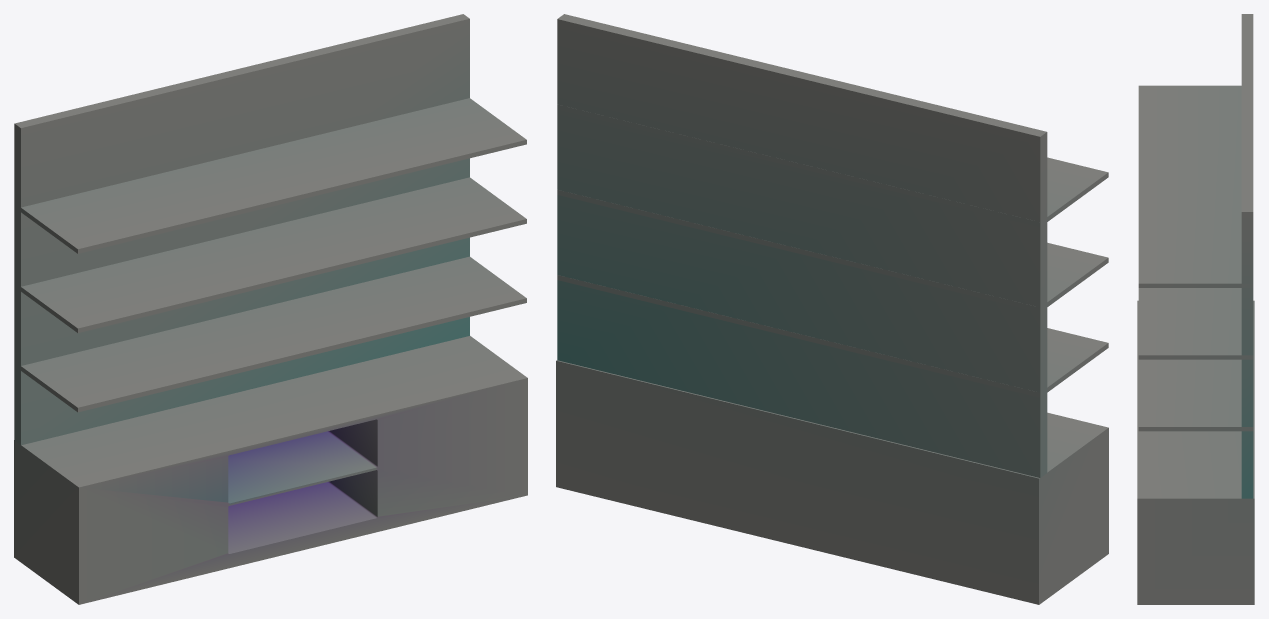
The picture shows the model from 3 angles, left to right: view 1: azimuth 30°, elevation 25°; view 2: azimuth 150°, elevation 25°; view 3: azimuth 270°, elevation 25°; orthographic projection. The views are drawn at different scales.
Visible parts, largest first — view 1: cabinet, back_panel, middle_shelf, upper_shelf, lower_shelf; view 2: back_panel, cabinet, lower_shelf, upper_shelf, middle_shelf; view 3: upper_shelf, cabinet, lower_shelf, middle_shelf, back_panel.
Boxes of the visible parts, box(x1,y1,x2,y2) form: cabinet: box(14, 336, 527, 604); back_panel: box(14, 14, 469, 445); middle_shelf: box(21, 177, 526, 332); upper_shelf: box(21, 98, 526, 253); lower_shelf: box(21, 256, 526, 412); back_panel: box(557, 14, 1047, 477); cabinet: box(556, 360, 1108, 604); lower_shelf: box(557, 275, 1108, 397); upper_shelf: box(557, 104, 1108, 227); middle_shelf: box(557, 189, 1108, 312); upper_shelf: box(1138, 85, 1253, 287); cabinet: box(1137, 300, 1254, 604); lower_shelf: box(1138, 359, 1253, 431); middle_shelf: box(1138, 288, 1253, 359); back_panel: box(1241, 14, 1253, 498).
Size of the model in its own units: 2.5 by 2.31 by 0.6237.
